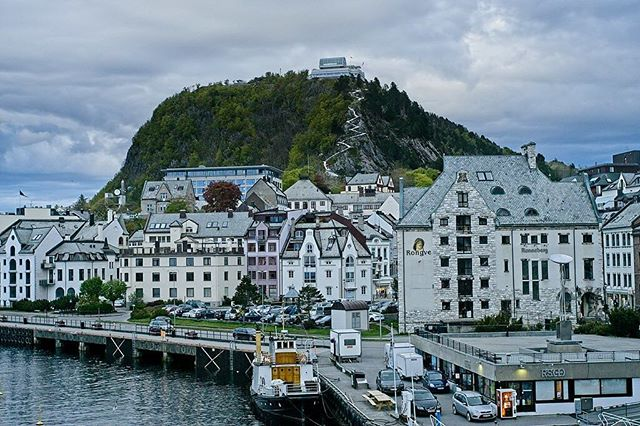boat: (247, 325, 325, 423)
building: (400, 158, 605, 326), (413, 317, 640, 399), (1, 214, 117, 309), (281, 222, 370, 317), (112, 246, 241, 311), (146, 163, 279, 216), (305, 51, 366, 81)
car: (447, 386, 497, 418), (402, 387, 442, 415), (375, 367, 403, 393), (423, 370, 451, 396)
mountain: (141, 36, 462, 128)
sky: (5, 1, 640, 139)
